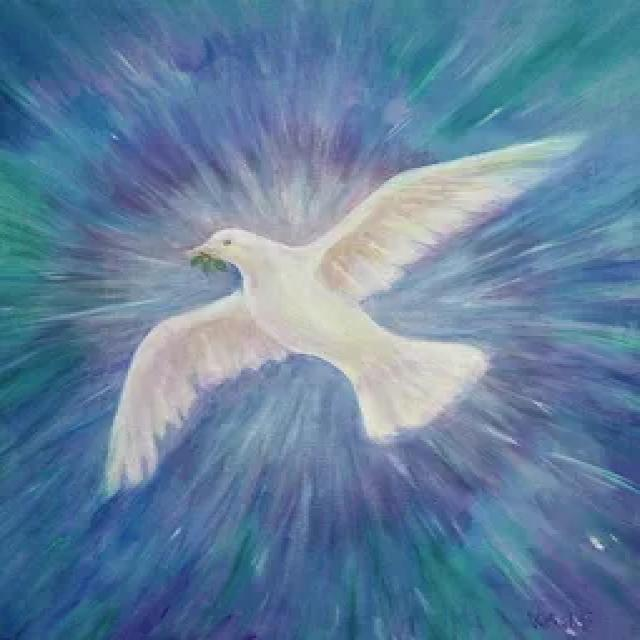pigeon: (89, 121, 591, 496)
